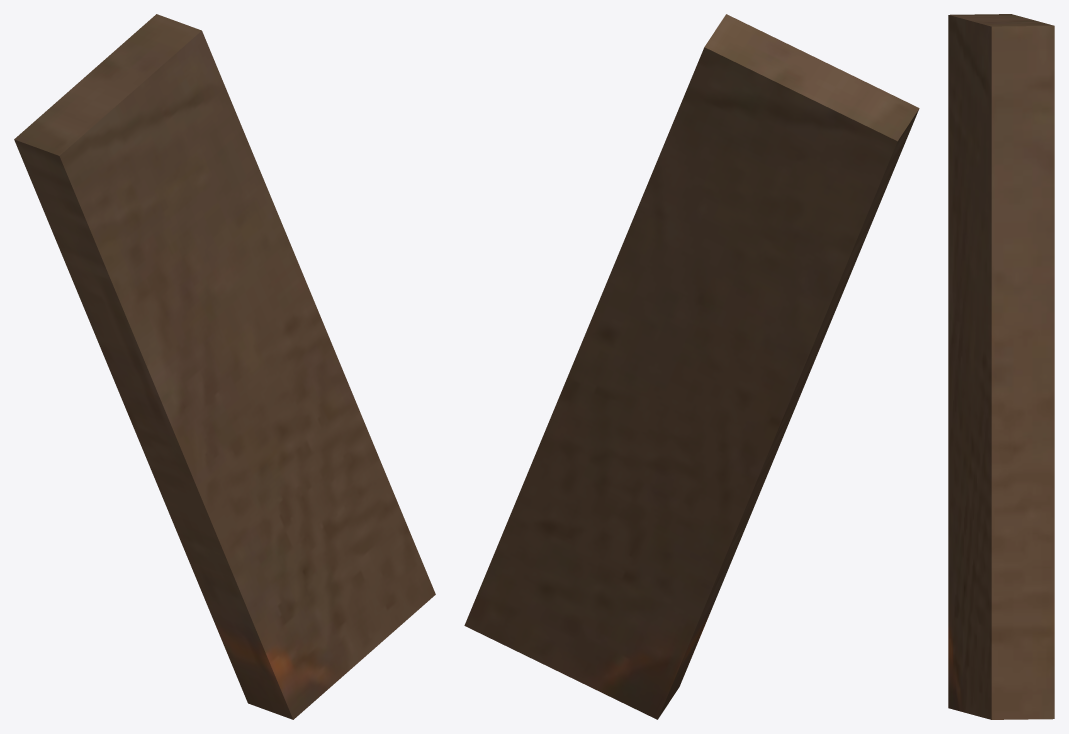
File: fan_right__blade_2.glb
3 renders of one model, left to right at view 1: azimuth 30°, elevation 25°; view 2: azimuth 150°, elevation 25°; view 3: azimuth 270°, elevation 25°, orthographic. The views are drawn at different scales.
Parts seen in each view (by area): view 1: geometry_0; view 2: geometry_0; view 3: geometry_0.
Boxes of the visible parts, left/top/right/bottom form: geometry_0: left=14, top=14, right=435, bottom=719; geometry_0: left=464, top=14, right=919, bottom=719; geometry_0: left=948, top=14, right=1054, bottom=719.
Bounding box in the file's own units: 0.0181 × 0.0291 × 0.00428.
1 material, 1 textured.
